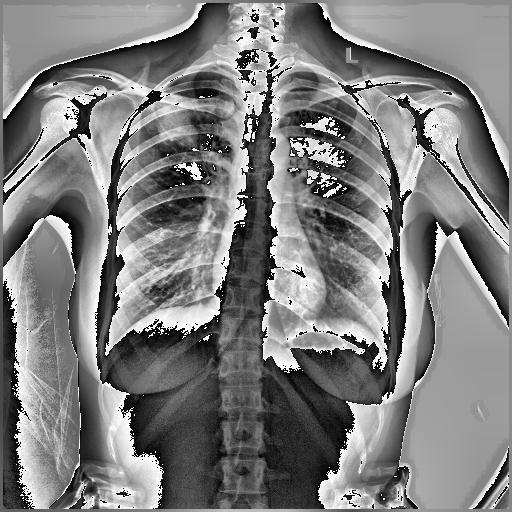4- Consolidation: (156, 94, 200, 150)
6- Infiltration: (150, 98, 201, 148)
7- Lung Opacity: (150, 98, 201, 148), (150, 97, 200, 148)
8- Nodule-Mass: (156, 94, 200, 150)
